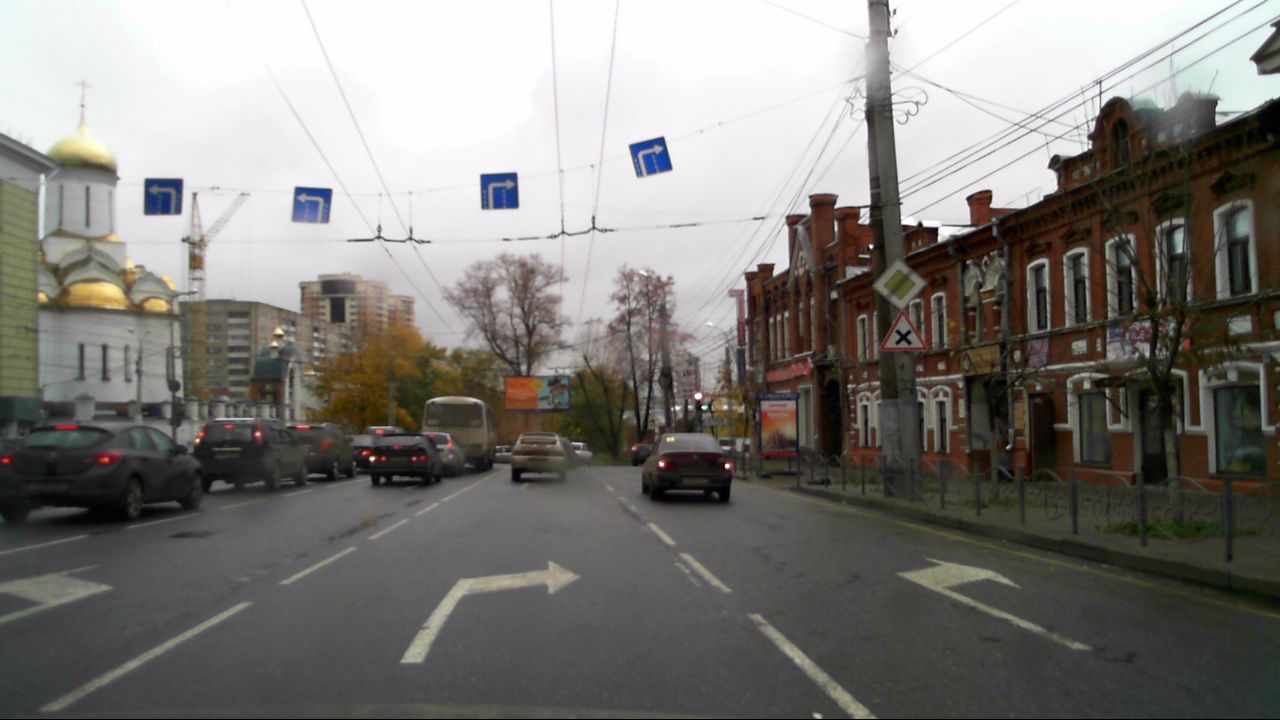main road: (872, 258, 926, 309)
